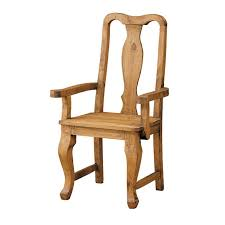tiyarina: (44, 9, 174, 211)
